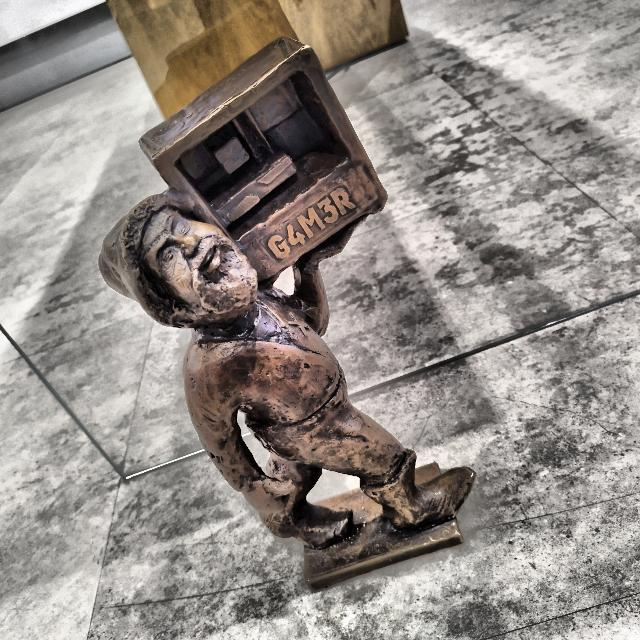GigaHercjusz: (100, 39, 475, 589)
